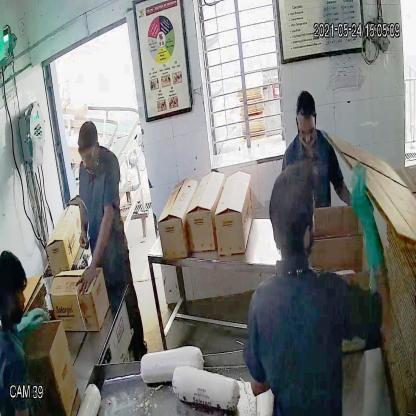goggles: (77, 146, 99, 166)
